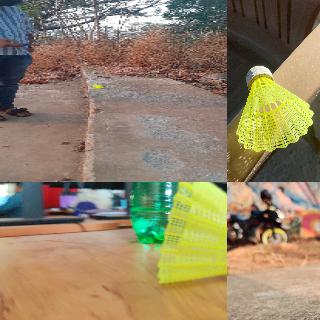shuttlecock: (156, 182, 226, 283), (235, 65, 312, 151), (92, 84, 106, 88)
